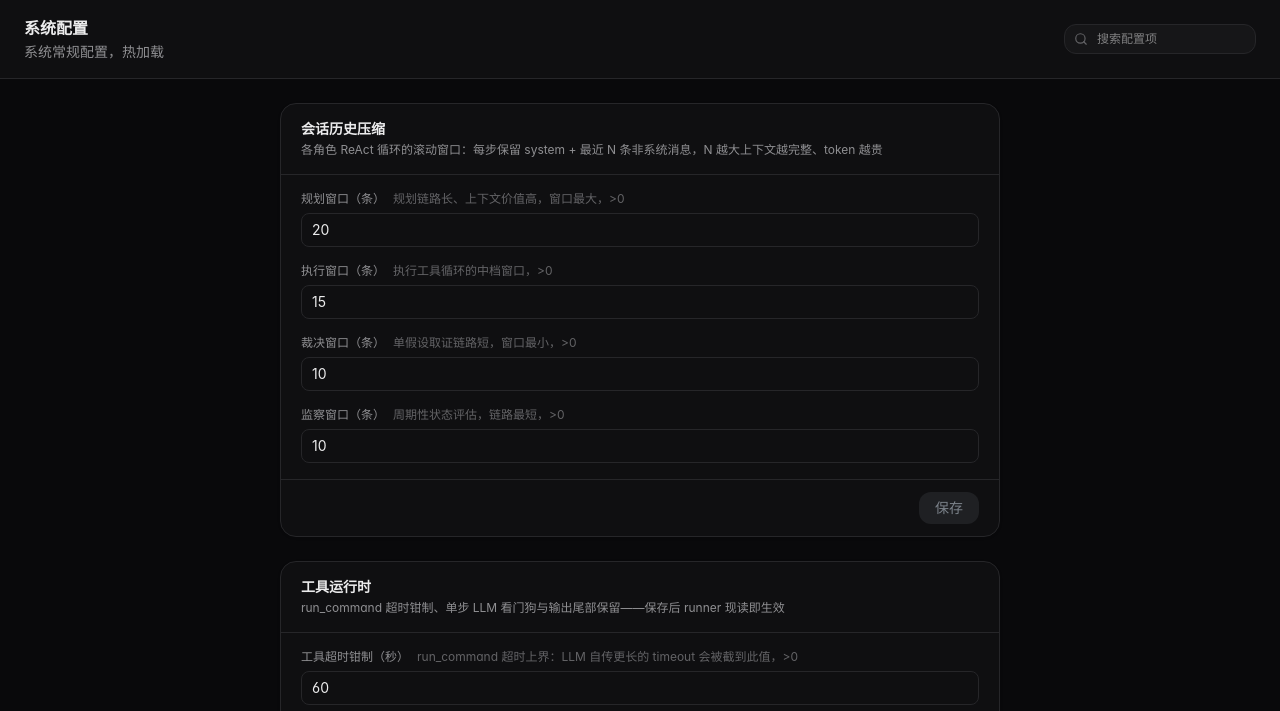
Test case: SystemConfig › 清空搜索框恢复显示所有分区
Check: the heading "会话历史压缩" is shown, box [301,122,385,138]
Type "压缩" into the search field with placeholder "搜索配置项". click: (1160, 39)
box: [1064,24,1256,54]
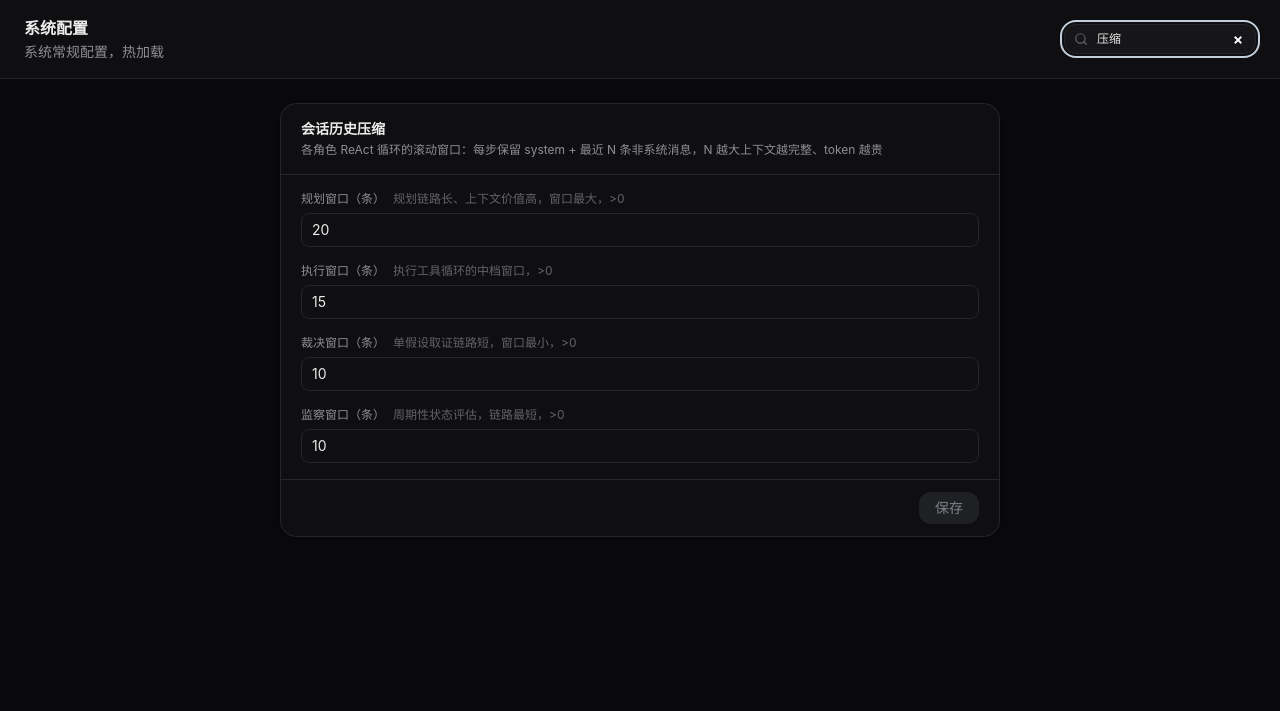
Check: the heading "会话历史压缩" is shown, box [301,122,385,138]
Check: the heading "工具运行时" is gone
Clear the search field with placeholder "搜索配置项". click: (1160, 39)
box: [1064,24,1256,54]
(page scrolled)
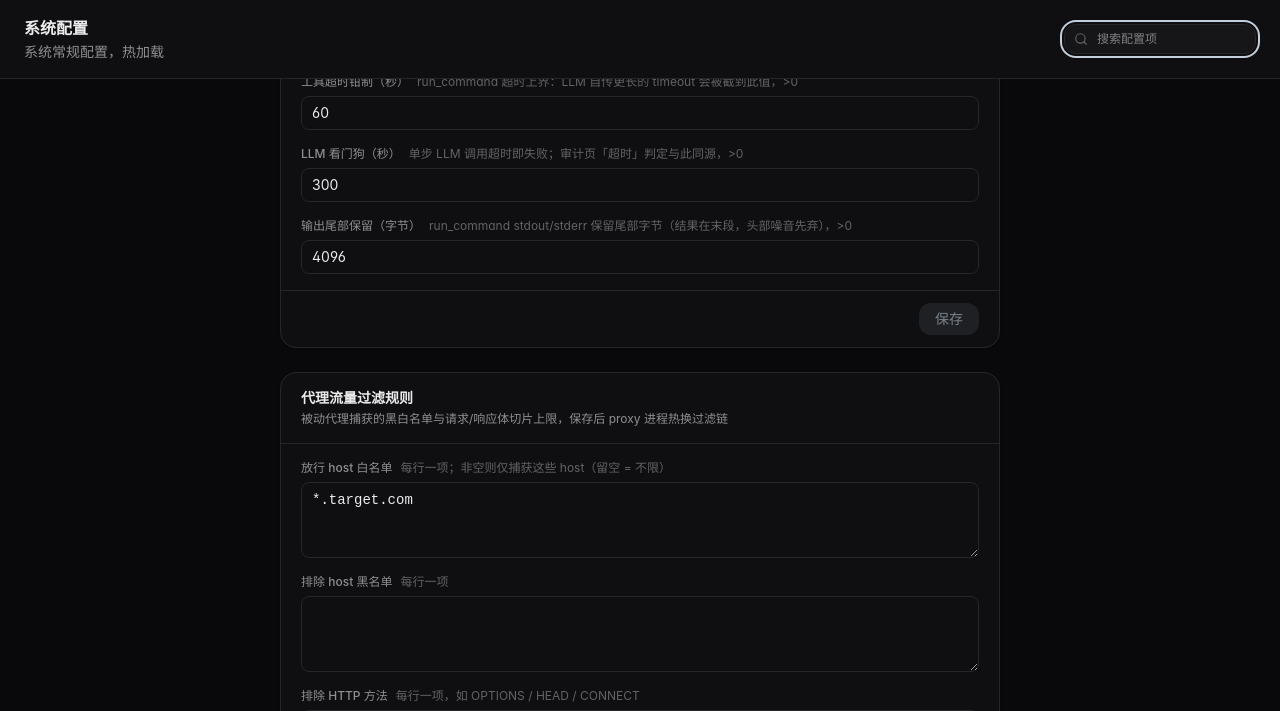
Check: the heading "代理流量过滤规则" is shown, box [301,391,413,407]
